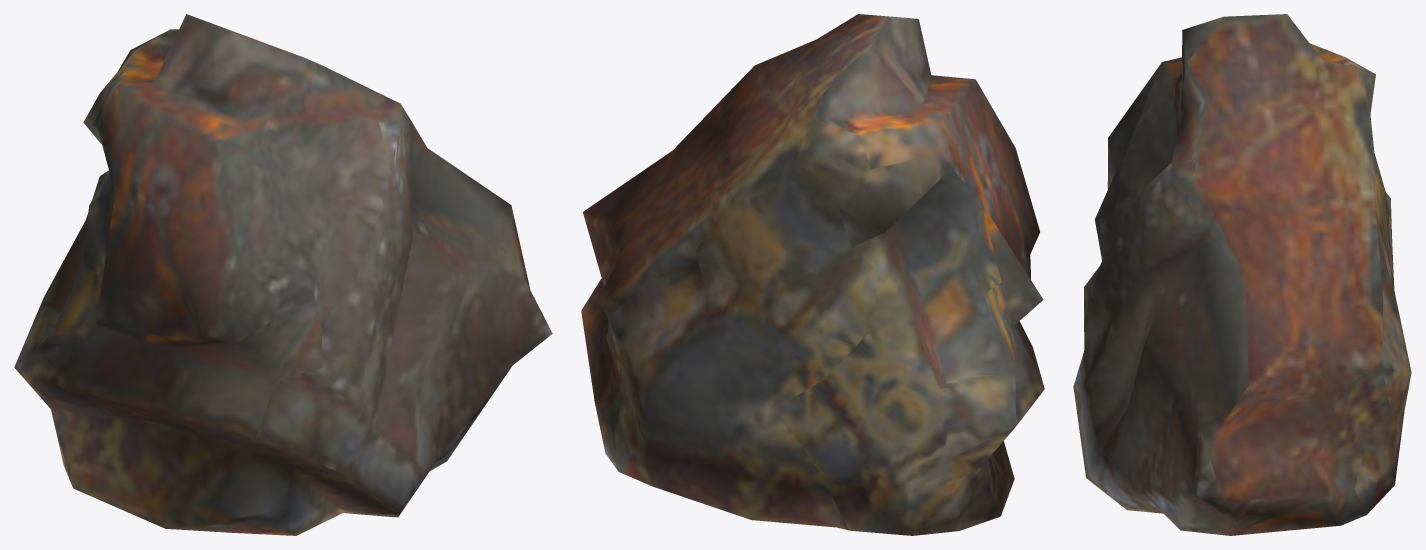
File: Q_Rock_2.fbx
3 renders of one model, left to right at view 1: azimuth 30°, elevation 25°; view 2: azimuth 150°, elevation 25°; view 3: azimuth 270°, elevation 25°, orthographic. The views are drawn at different scales.
Visible parts, largest first — view 1: Aset_rock_smooth_S_uglldgifa_01_LOD4; view 2: Aset_rock_smooth_S_uglldgifa_01_LOD4; view 3: Aset_rock_smooth_S_uglldgifa_01_LOD4.
Boxes of the visible parts, <box> form: Aset_rock_smooth_S_uglldgifa_01_LOD4: <box>14,14,552,535</box>; Aset_rock_smooth_S_uglldgifa_01_LOD4: <box>581,14,1044,535</box>; Aset_rock_smooth_S_uglldgifa_01_LOD4: <box>1073,14,1411,535</box>.
Size of the model in its own units: 6.23 by 5.91 by 4.1.
1 material, 1 textured.
